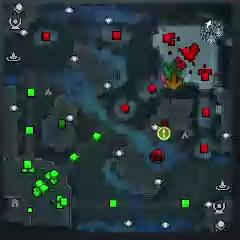Other: (157, 126, 171, 140)
x1: (162, 72, 172, 88)
x4: (163, 61, 180, 79)
x5: (167, 70, 183, 89)
